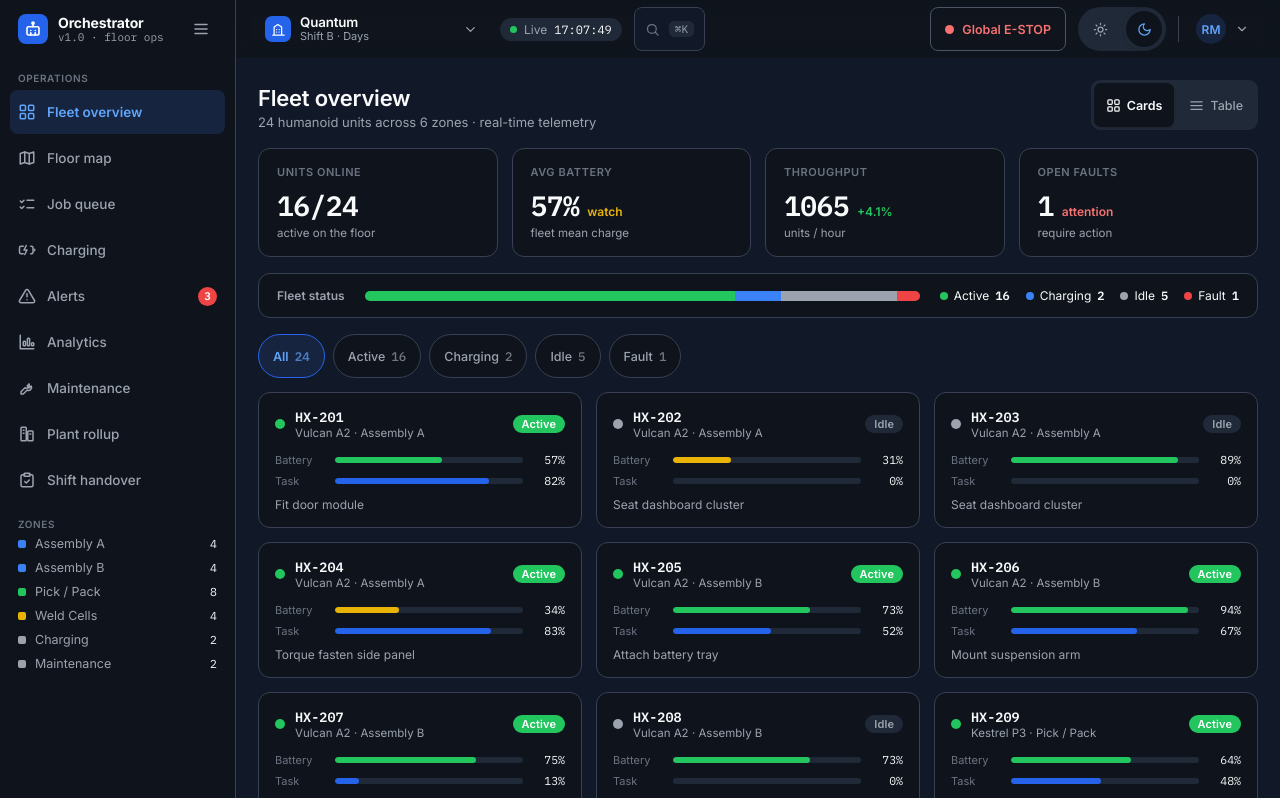
alerts › lists seeded alerts with severity totals and an unacknowledged badge
Click the button "Alerts 3": (118, 296) [10,274,225,318]
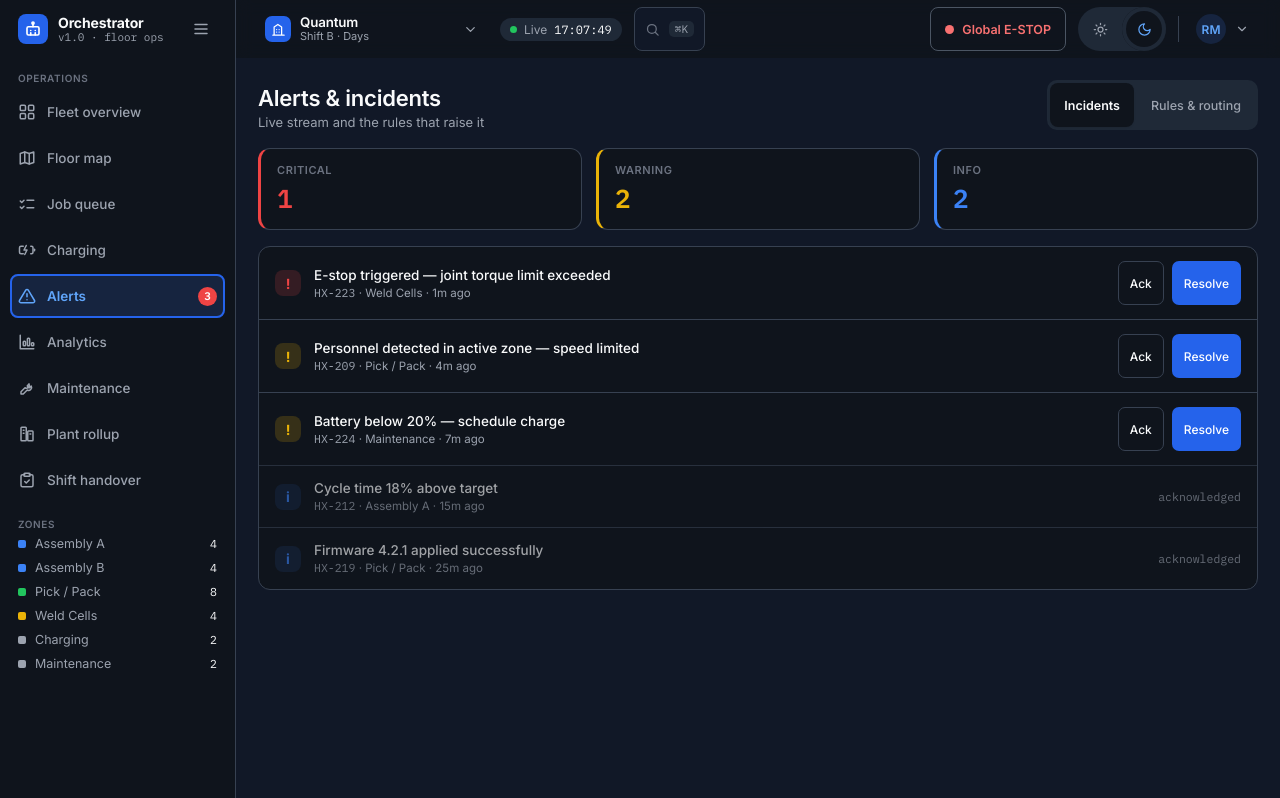
Check: the number of buttons "Ack" is 3, box [1118,261,1164,305]; [1118,334,1164,378]; [1118,407,1164,451]
Check: the text "acknowledged" is shown 2 times, box [1158,489,1241,504]; [1158,551,1241,566]
